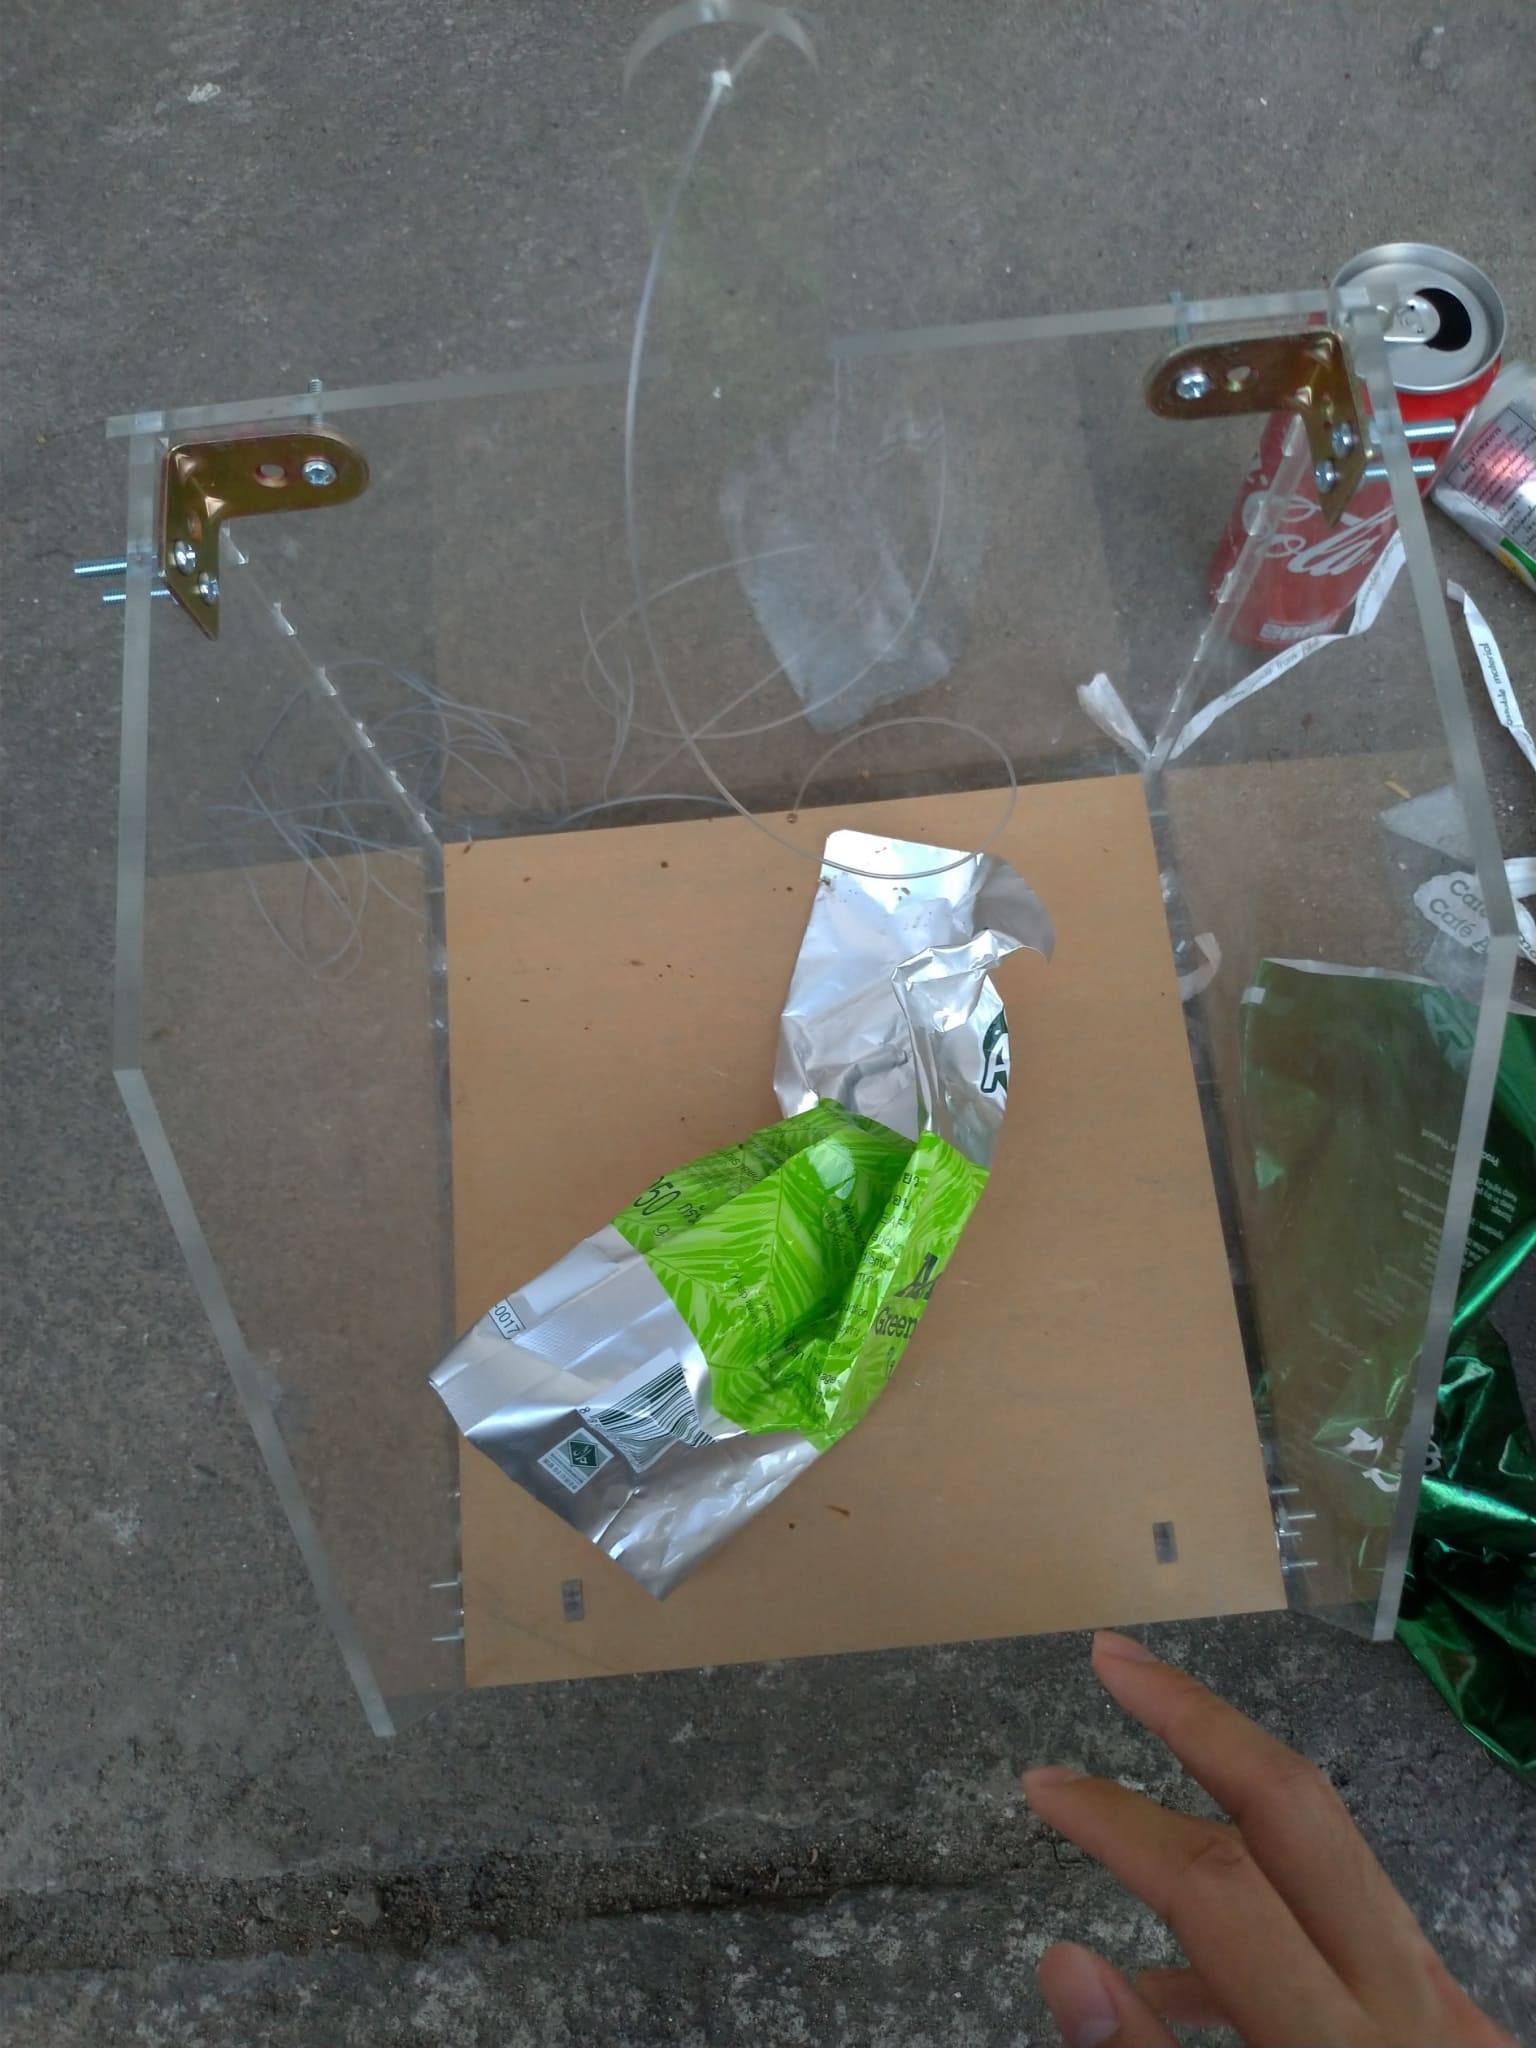AlCan: (1204, 235, 1504, 634)
Others: (424, 827, 1020, 1592), (1233, 958, 1533, 1772), (1084, 514, 1418, 769), (1410, 564, 1536, 953), (1438, 364, 1536, 556)
